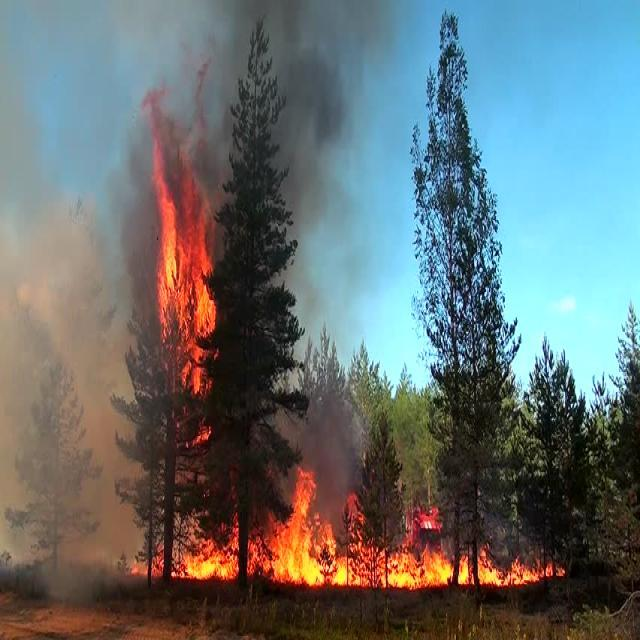Fire: (158, 215, 216, 350), (272, 488, 316, 580), (184, 544, 238, 578), (392, 553, 449, 585)
Smoke: (278, 10, 346, 128)
